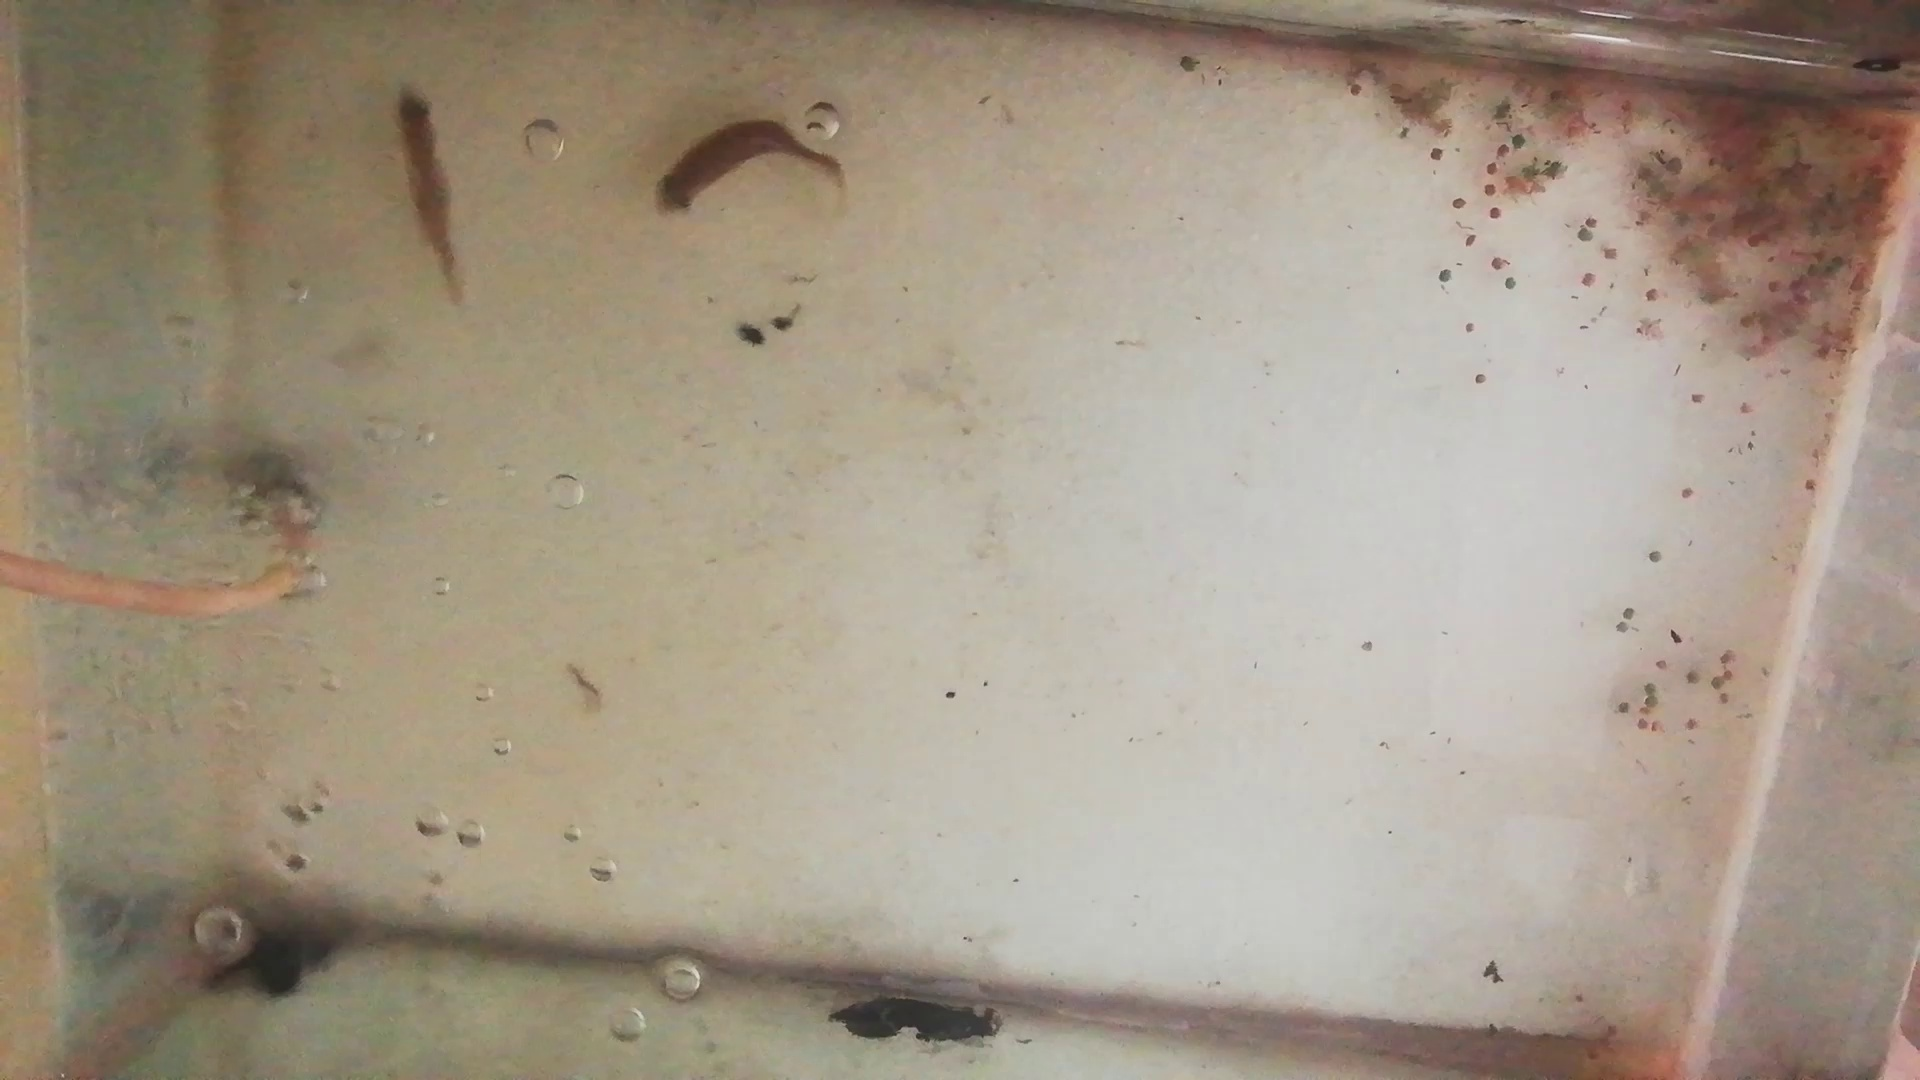fish: (653, 117, 849, 222), (388, 88, 473, 298)
